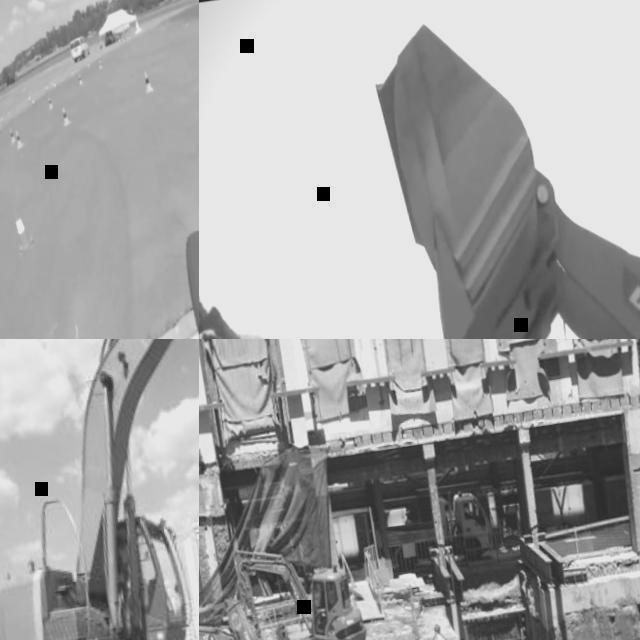machinery: (360, 0, 640, 339), (0, 339, 199, 640), (231, 527, 379, 640), (372, 489, 497, 576)
safety_cone: (10, 204, 39, 260), (406, 585, 422, 639), (142, 70, 156, 98), (59, 106, 72, 128), (14, 131, 24, 152), (8, 128, 17, 145), (47, 97, 55, 112), (96, 58, 103, 70), (78, 74, 84, 87)
vehicle: (133, 77, 199, 339), (70, 36, 90, 64)
